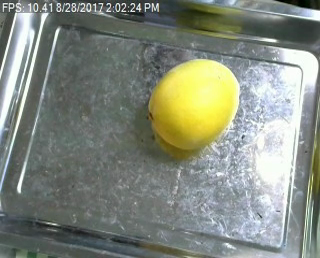Mango: (144, 58, 241, 150)
